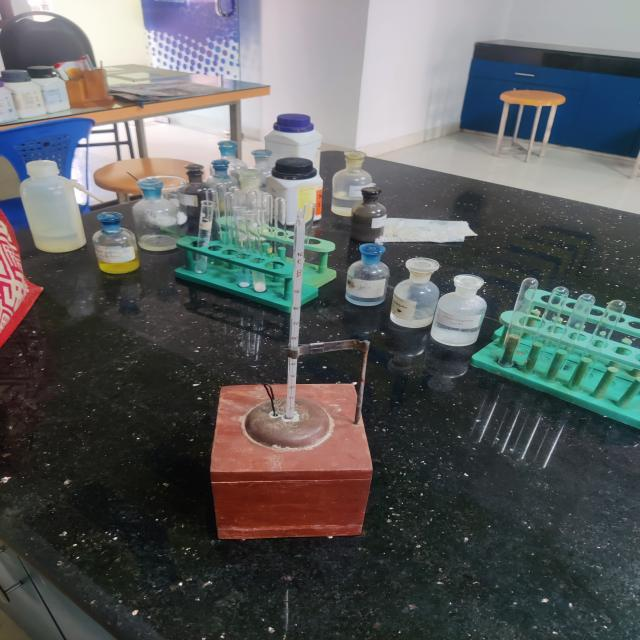Calorimeter: (180, 200, 413, 566)
